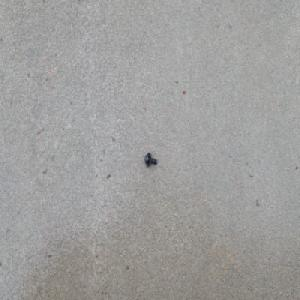BoltWasher: (144, 151, 157, 167)
